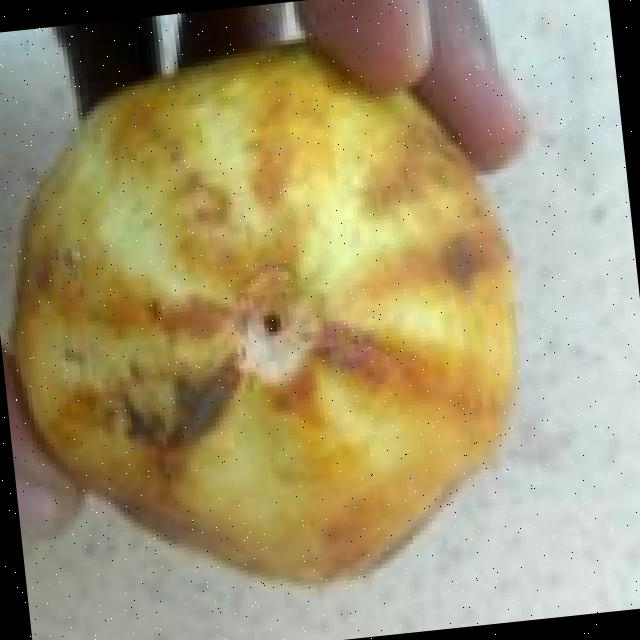Bad_Guava 0 day: (13, 46, 515, 576)
